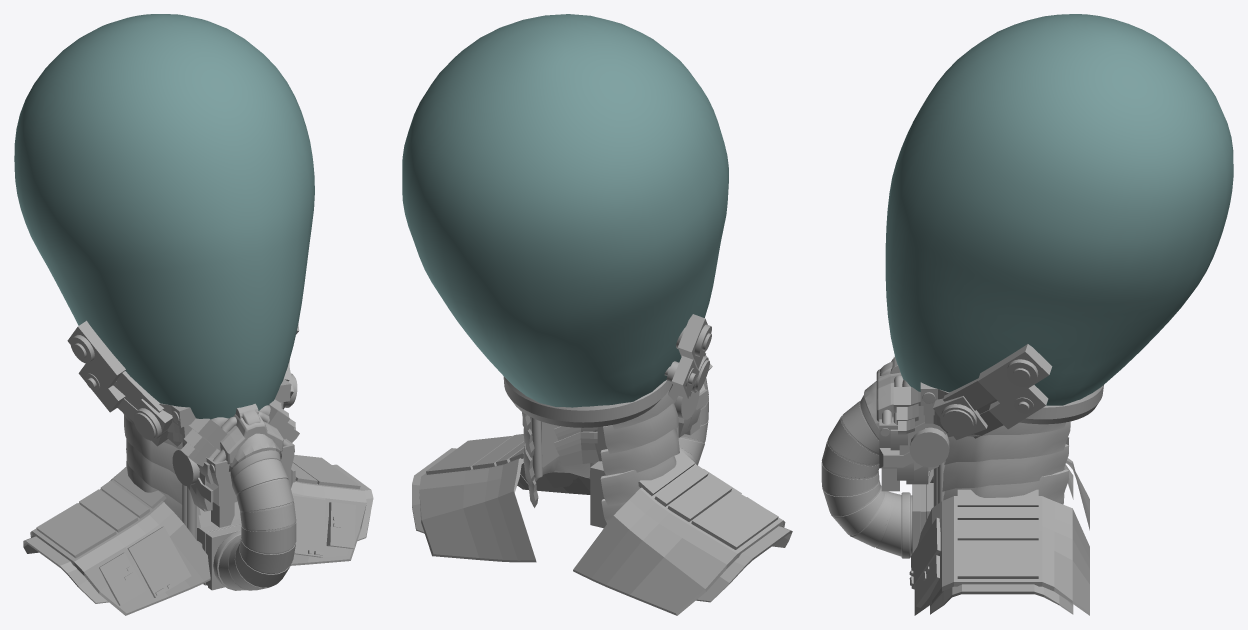
File: Alien_Helmet_02.fbx
The picture shows the model from 3 angles, left to right: view 1: azimuth 30°, elevation 25°; view 2: azimuth 150°, elevation 25°; view 3: azimuth 270°, elevation 25°; orthographic projection. The views are drawn at different scales.
Parts seen in each view (by area): view 1: Glass2, Parts1, Alien_Helmet_Hose, Parts; view 2: Glass2, Parts1, Parts, pCylinder1, Neck_Slats_Front, Alien_Helmet_Hose; view 3: Glass2, Parts, Alien_Helmet_Hose, pCylinder1, Parts1.
Part boxes in pixels (<box>): Glass2: <box>14,14,314,419</box>; Parts1: <box>23,320,241,615</box>; Alien_Helmet_Hose: <box>213,403,296,590</box>; Parts: <box>197,323,373,590</box>; Glass2: <box>402,14,728,407</box>; Parts1: <box>573,314,792,615</box>; Parts: <box>412,412,606,562</box>; pCylinder1: <box>503,376,672,427</box>; Neck_Slats_Front: <box>554,425,607,466</box>; Alien_Helmet_Hose: <box>678,378,708,465</box>; Glass2: <box>885,14,1233,405</box>; Parts: <box>879,344,1089,615</box>; Alien_Helmet_Hose: <box>821,357,912,558</box>; pCylinder1: <box>1019,385,1103,424</box>; Parts1: <box>893,356,1089,549</box>.
Size of the model in its own units: 30.19 by 46.79 by 32.98.
